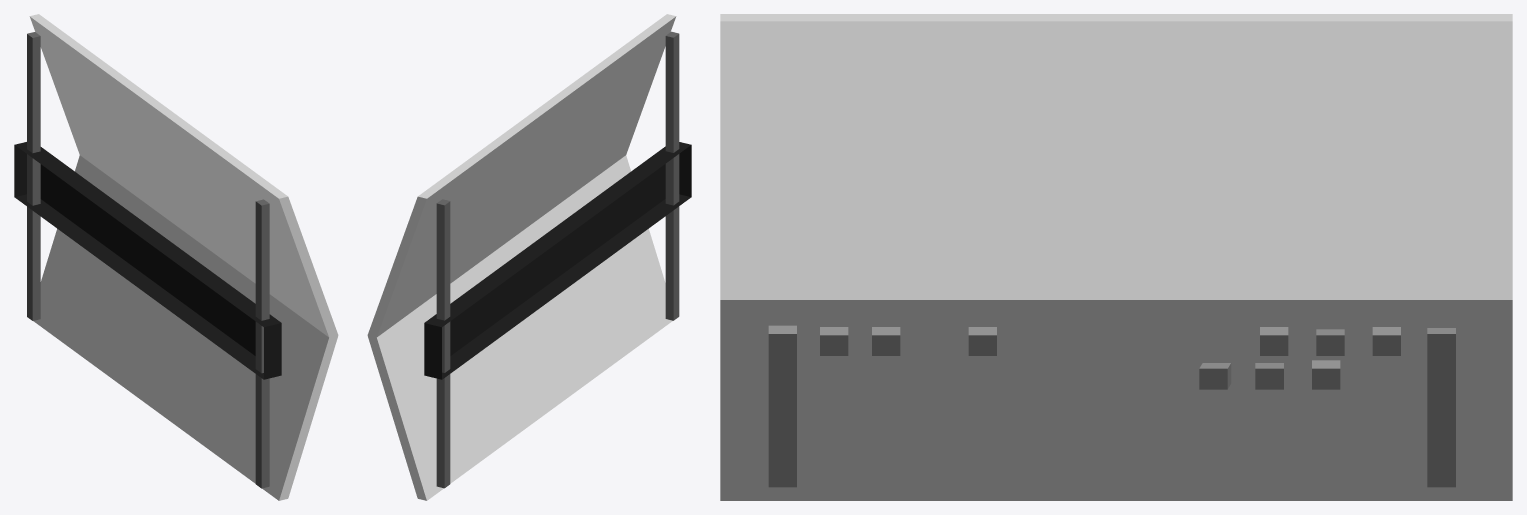
File: wall_tech_C.FBX
3 views of the same model, side by side, from view 1: azimuth 30°, elevation 25°; view 2: azimuth 150°, elevation 25°; view 3: azimuth 270°, elevation 25° (orthographic). The views are drawn at different scales.
Parts seen in each view (by area): view 1: wall_tech_B; view 2: wall_tech_B; view 3: wall_tech_B.
Boxes of the visible parts, <box> form: wall_tech_B: <box>14,14,338,500</box>; wall_tech_B: <box>367,14,691,500</box>; wall_tech_B: <box>720,14,1512,500</box>.
Bounding box in the file's own units: 12.76 × 48.99 × 73.29.
